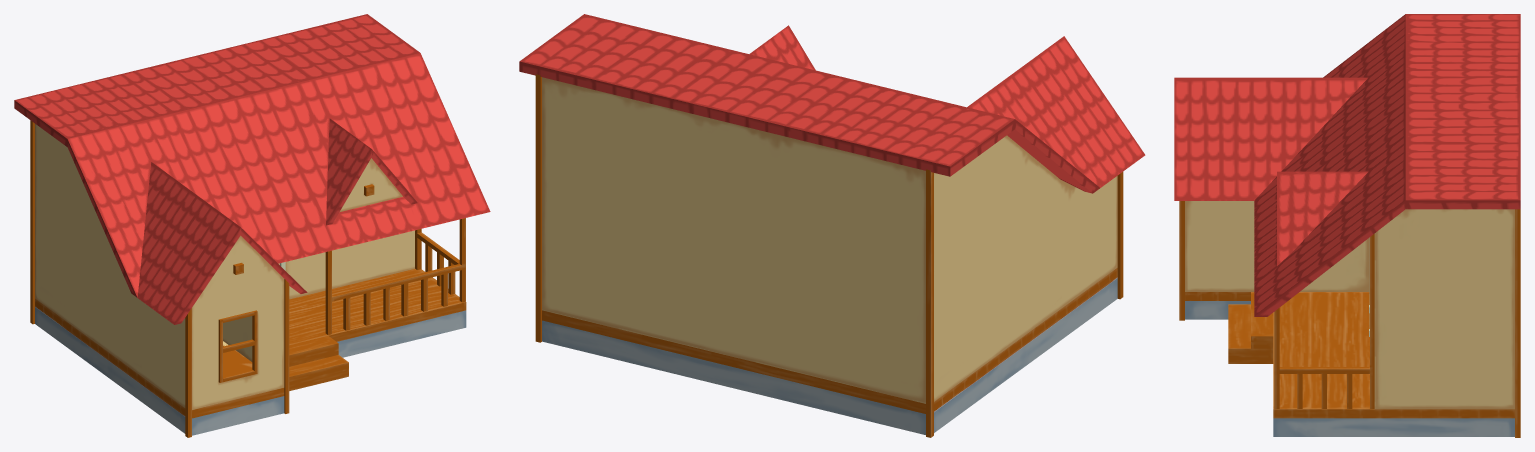
Rendered from House.fbx.
The picture shows the model from 3 angles, left to right: view 1: azimuth 30°, elevation 25°; view 2: azimuth 150°, elevation 25°; view 3: azimuth 270°, elevation 25°; orthographic projection. The views are drawn at different scales.
Parts seen in each view (by area): view 1: RoofMain, Walls, Roof, Floor, Foundation, Patio, Roof.003, Stairs, WallRoof, WindowSill, PatioSide, Beam.004 (+2 smaller); view 2: Walls, RoofMain, Foundation, Roof, Floor, Beam.004, Beam.003, Roof.003, Beam.002; view 3: RoofMain, Walls, Roof, Floor, Foundation, Roof.003, Stairs, PatioSide, Beam.003, Beam.001, Patio.
Boxes of the visible parts, x1,y1,x2,y2 form: RoofMain: (14, 14, 490, 297); Walls: (35, 124, 414, 409); Roof: (137, 162, 307, 324); Floor: (35, 269, 466, 418); Foundation: (35, 307, 466, 435); Patio: (325, 218, 465, 334); Roof.003: (326, 118, 417, 225); Stairs: (289, 336, 348, 390); WallRoof: (340, 158, 402, 211); WindowSill: (218, 310, 257, 382); PatioSide: (415, 229, 459, 294); Beam.004: (30, 120, 34, 324); Walls: (542, 77, 1117, 403); RoofMain: (519, 14, 1099, 193); Foundation: (542, 278, 1117, 434); Roof: (967, 36, 1145, 187); Floor: (542, 268, 1117, 413); Beam.004: (926, 169, 933, 437); Beam.003: (535, 74, 541, 342); Roof.003: (749, 25, 815, 70); Beam.002: (1117, 172, 1123, 299); RoofMain: (1254, 14, 1520, 316); Walls: (1185, 201, 1514, 409); Roof: (1174, 77, 1367, 200); Floor: (1185, 292, 1514, 418); Foundation: (1185, 301, 1514, 436); Roof.003: (1277, 171, 1368, 265); Stairs: (1228, 292, 1273, 363); PatioSide: (1279, 234, 1374, 408); Beam.003: (1515, 209, 1520, 437); Beam.001: (1179, 201, 1184, 320); Patio: (1274, 308, 1279, 408).
Size of the model in its own units: 1247 by 764 by 980.
